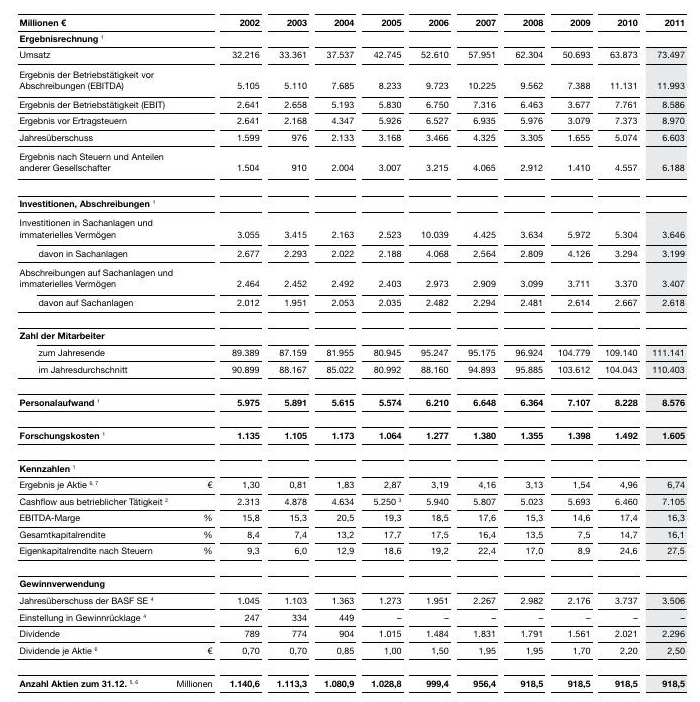table: (0, 0, 700, 702)
